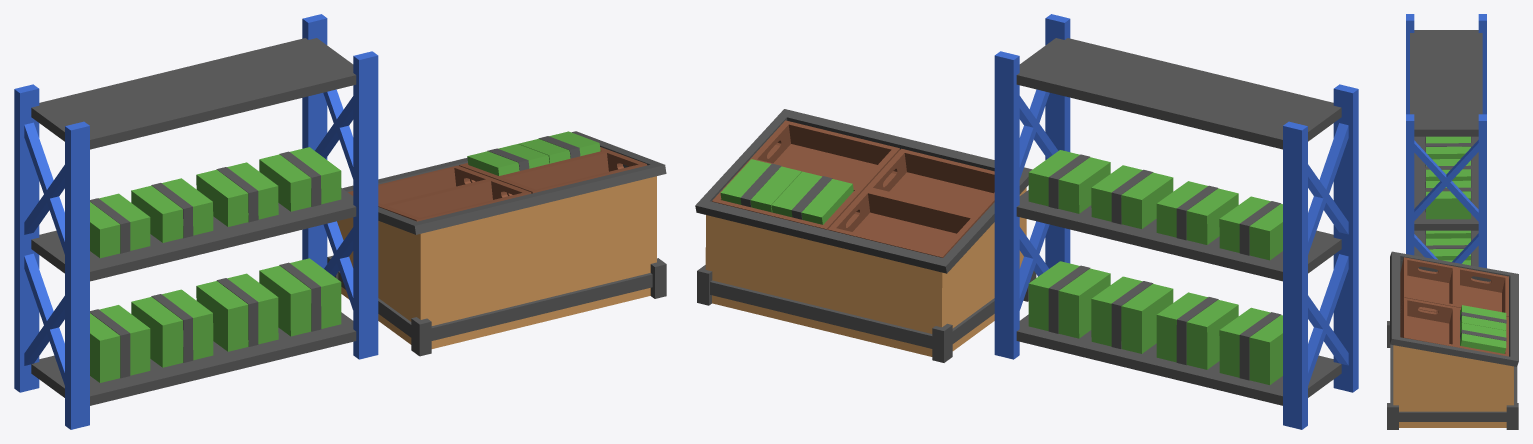
3 renders of one model, left to right at view 1: azimuth 30°, elevation 25°; view 2: azimuth 150°, elevation 25°; view 3: azimuth 270°, elevation 25°, orthographic. The views are drawn at different scales.
Parts seen in each view (by area): view 1: Shelf, Crate Holder, Box 02.002, Box 02.001, Box 02.003, Box 02.004, Box 02.006, Box 02.005, Box 02.007, Box 02.008, Crate 04, Crate 03 (+3 smaller); view 2: Shelf, Crate Holder, Crate 02, Crate 04, Crate 03, Box 02.002, Box 02.001, Box 02.003, Box 02.004, Box 02.006, Box 02.007, Box 02.005 (+4 smaller); view 3: Shelf, Crate Holder, Crate 03, Crate 04, Crate 02, Box 02.005, Box 01, Box 02.007, Box 02, Box 02.002, Box 02.006, Box 02.003 (+1 smaller).
Boxes of the visible parts, <box> form: Shelf: <box>14,14,378,429</box>; Crate Holder: <box>327,131,666,356</box>; Box 02.002: <box>196,273,278,351</box>; Box 02.001: <box>259,258,341,336</box>; Box 02.003: <box>131,289,213,367</box>; Box 02.004: <box>90,305,150,382</box>; Box 02.006: <box>196,162,278,226</box>; Box 02.005: <box>259,147,341,211</box>; Box 02.007: <box>131,178,213,242</box>; Box 02.008: <box>90,193,150,258</box>; Crate 04: <box>495,150,647,195</box>; Crate 03: <box>380,179,531,221</box>; Shelf: <box>994,14,1358,429</box>; Crate Holder: <box>695,109,1036,362</box>; Crate 02: <box>828,189,979,257</box>; Crate 04: <box>749,120,900,189</box>; Crate 03: <box>865,148,994,218</box>; Box 02.002: <box>1091,276,1173,353</box>; Box 02.001: <box>1028,261,1110,338</box>; Box 02.003: <box>1156,292,1238,369</box>; Box 02.004: <box>1219,307,1282,384</box>; Box 02.006: <box>1091,165,1173,228</box>; Box 02.007: <box>1156,181,1238,244</box>; Box 02.005: <box>1028,150,1110,213</box>; Shelf: <box>1406,14,1486,268</box>; Crate Holder: <box>1387,251,1518,429</box>; Crate 03: <box>1400,257,1456,312</box>; Crate 04: <box>1400,297,1456,346</box>; Crate 02: <box>1456,267,1508,316</box>; Box 02.005: <box>1425,180,1471,219</box>; Box 01: <box>1460,323,1506,353</box>; Box 02.007: <box>1425,136,1471,167</box>; Box 02: <box>1460,305,1506,330</box>; Box 02.002: <box>1426,238,1471,265</box>; Box 02.006: <box>1425,159,1471,189</box>; Box 02.003: <box>1425,230,1471,245</box>.
Bounding box in the file's own units: 1254 × 614 × 343.
